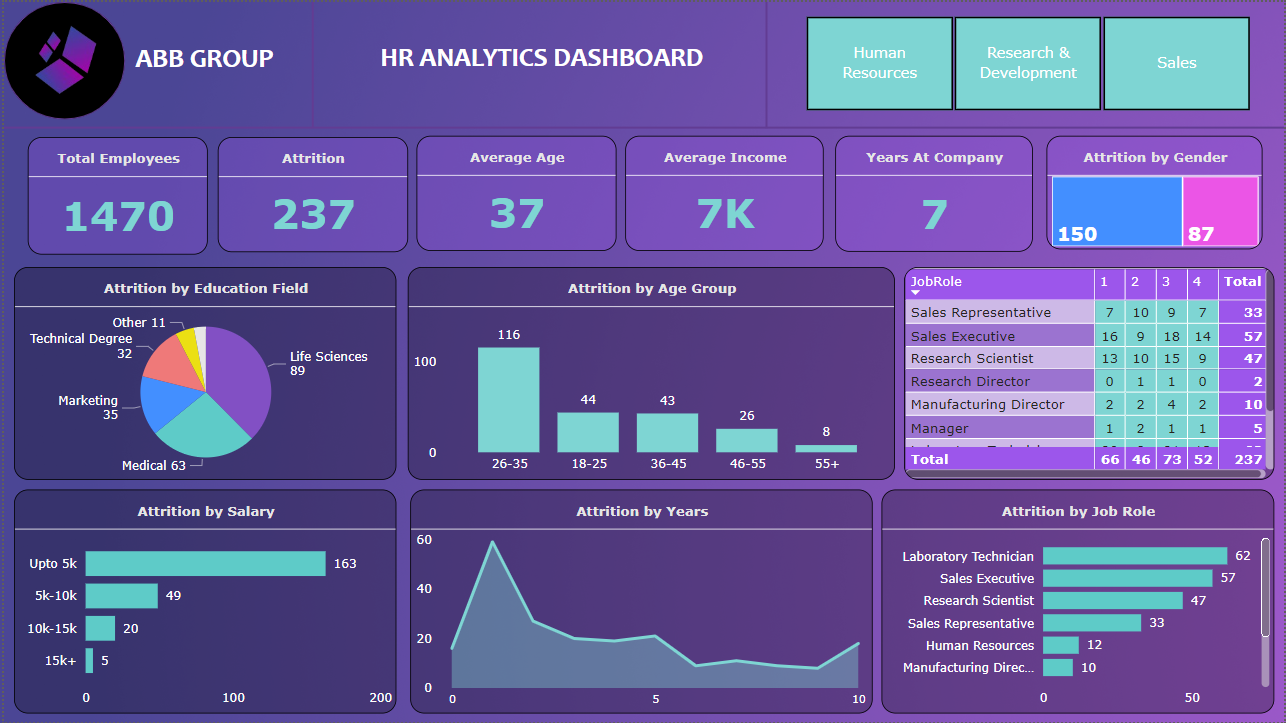

Layout of this report page (visuals, bound fields, positions):
{"tool":"powerbi","page":{"name":"Page 1","canvas":[1280,720],"ordinal":0},"visuals":[{"type":"card","title":"Total Employees","fields":{"Values":["Count(HR_Analytics.EmpID)"]},"box":[24.3,134.5,180,117.5],"z":0},{"type":"card","title":"Attrition","fields":{"Values":["Sum(HR_Analytics.Attrition)"]},"box":[214.3,134.5,190,115],"z":1000},{"type":"card","title":"Average Age","fields":{"Values":["Avg(HR_Analytics.Age)"]},"box":[413,133.2,200,115],"z":2000},{"type":"card","title":"Average Income","fields":{"Values":["Avg(HR_Analytics.MonthlyIncome)"]},"box":[621.8,133.2,198.8,115],"z":3000},{"type":"card","title":"Years At Company","fields":{"Values":["Avg(HR_Analytics.YearsAtCompany)"]},"box":[831.8,133.2,197.5,116.2],"z":4000},{"type":"pieChart","title":"Attrition by Education Field","fields":{"Y":["Sum(HR_Analytics.Attrition)"],"Category":["HR_Analytics.EducationField"]},"box":[10,265,382.5,212.5],"z":5000},{"type":"columnChart","title":"Attrition by Age Group","fields":{"Y":["Sum(HR_Analytics.Attrition)"],"Category":["HR_Analytics.AgeGroup"]},"box":[403.8,265,487.5,212.5],"z":6000},{"type":"pivotTable","fields":{"Rows":["HR_Analytics.JobRole"],"Values":["Sum(HR_Analytics.Attrition)"],"Columns":["HR_Analytics.JobSatisfaction"]},"box":[900,265,370,212.5],"z":7000},{"type":"treemap","title":"Attrition by Gender","fields":{"Group":["HR_Analytics.Gender"],"Values":["Sum(HR_Analytics.Attrition)"]},"box":[1043,133.2,216.2,113.8],"z":8000},{"type":"barChart","title":"Attrition by Salary","fields":{"Y":["Sum(HR_Analytics.Attrition)"],"Category":["HR_Analytics.SalarySlab"]},"box":[10,487.5,382.5,223.8],"z":9000},{"type":"areaChart","title":"Attrition by Years","fields":{"Category":["HR_Analytics.YearsAtCompany"],"Y":["Sum(HR_Analytics.Attrition)"]},"box":[406.2,487.5,462.5,223.8],"z":10000},{"type":"clusteredBarChart","title":"Attrition by Job Role","fields":{"Category":["HR_Analytics.JobRole"],"Y":["Sum(HR_Analytics.Attrition)"]},"box":[877.5,487.5,392.5,223.8],"z":11000},{"type":"shape","box":[0,0,121.2,117.5],"z":12000},{"type":"image","box":[0,7.5,110,102.5],"z":13000},{"type":"textbox","box":[126.2,35,163.8,46.2],"z":14000},{"type":"textbox","box":[371.2,33.8,337.5,50],"z":14002},{"type":"shape","box":[0,117.5,1280,16.2],"z":14003},{"type":"shape","box":[158.8,0,300,126.2],"z":14004},{"type":"shape","box":[612.5,0,300,126.2],"z":14005},{"type":"slicer","fields":{"Values":["HR_Analytics.Department"]},"box":[776.2,7.5,493.8,107.5],"z":14006}]}

Visuals, with their boxes in screenshot pixels (x1, y1, x2, y2), scaled from the page's 1280x720 canvas onto the 1286x723 screenshot:
"Total Employees" card: (x1=24, y1=135, x2=205, y2=253)
"Attrition" card: (x1=215, y1=135, x2=406, y2=251)
"Average Age" card: (x1=415, y1=134, x2=616, y2=249)
"Average Income" card: (x1=625, y1=134, x2=824, y2=249)
"Years At Company" card: (x1=836, y1=134, x2=1034, y2=250)
"Attrition by Education Field" pieChart: (x1=10, y1=266, x2=394, y2=479)
"Attrition by Age Group" columnChart: (x1=406, y1=266, x2=895, y2=479)
pivotTable - HR_Analytics.JobRole x Sum(HR_Analytics.Attrition): (x1=904, y1=266, x2=1276, y2=479)
"Attrition by Gender" treemap: (x1=1048, y1=134, x2=1265, y2=248)
"Attrition by Salary" barChart: (x1=10, y1=490, x2=394, y2=714)
"Attrition by Years" areaChart: (x1=408, y1=490, x2=873, y2=714)
"Attrition by Job Role" clusteredBarChart: (x1=882, y1=490, x2=1276, y2=714)
shape: (x1=0, y1=0, x2=122, y2=118)
image: (x1=0, y1=8, x2=111, y2=110)
textbox: (x1=127, y1=35, x2=291, y2=82)
textbox: (x1=373, y1=34, x2=712, y2=84)
shape: (x1=0, y1=118, x2=1285, y2=134)
shape: (x1=160, y1=0, x2=461, y2=127)
shape: (x1=615, y1=0, x2=917, y2=127)
slicer - HR_Analytics.Department: (x1=780, y1=8, x2=1276, y2=115)
